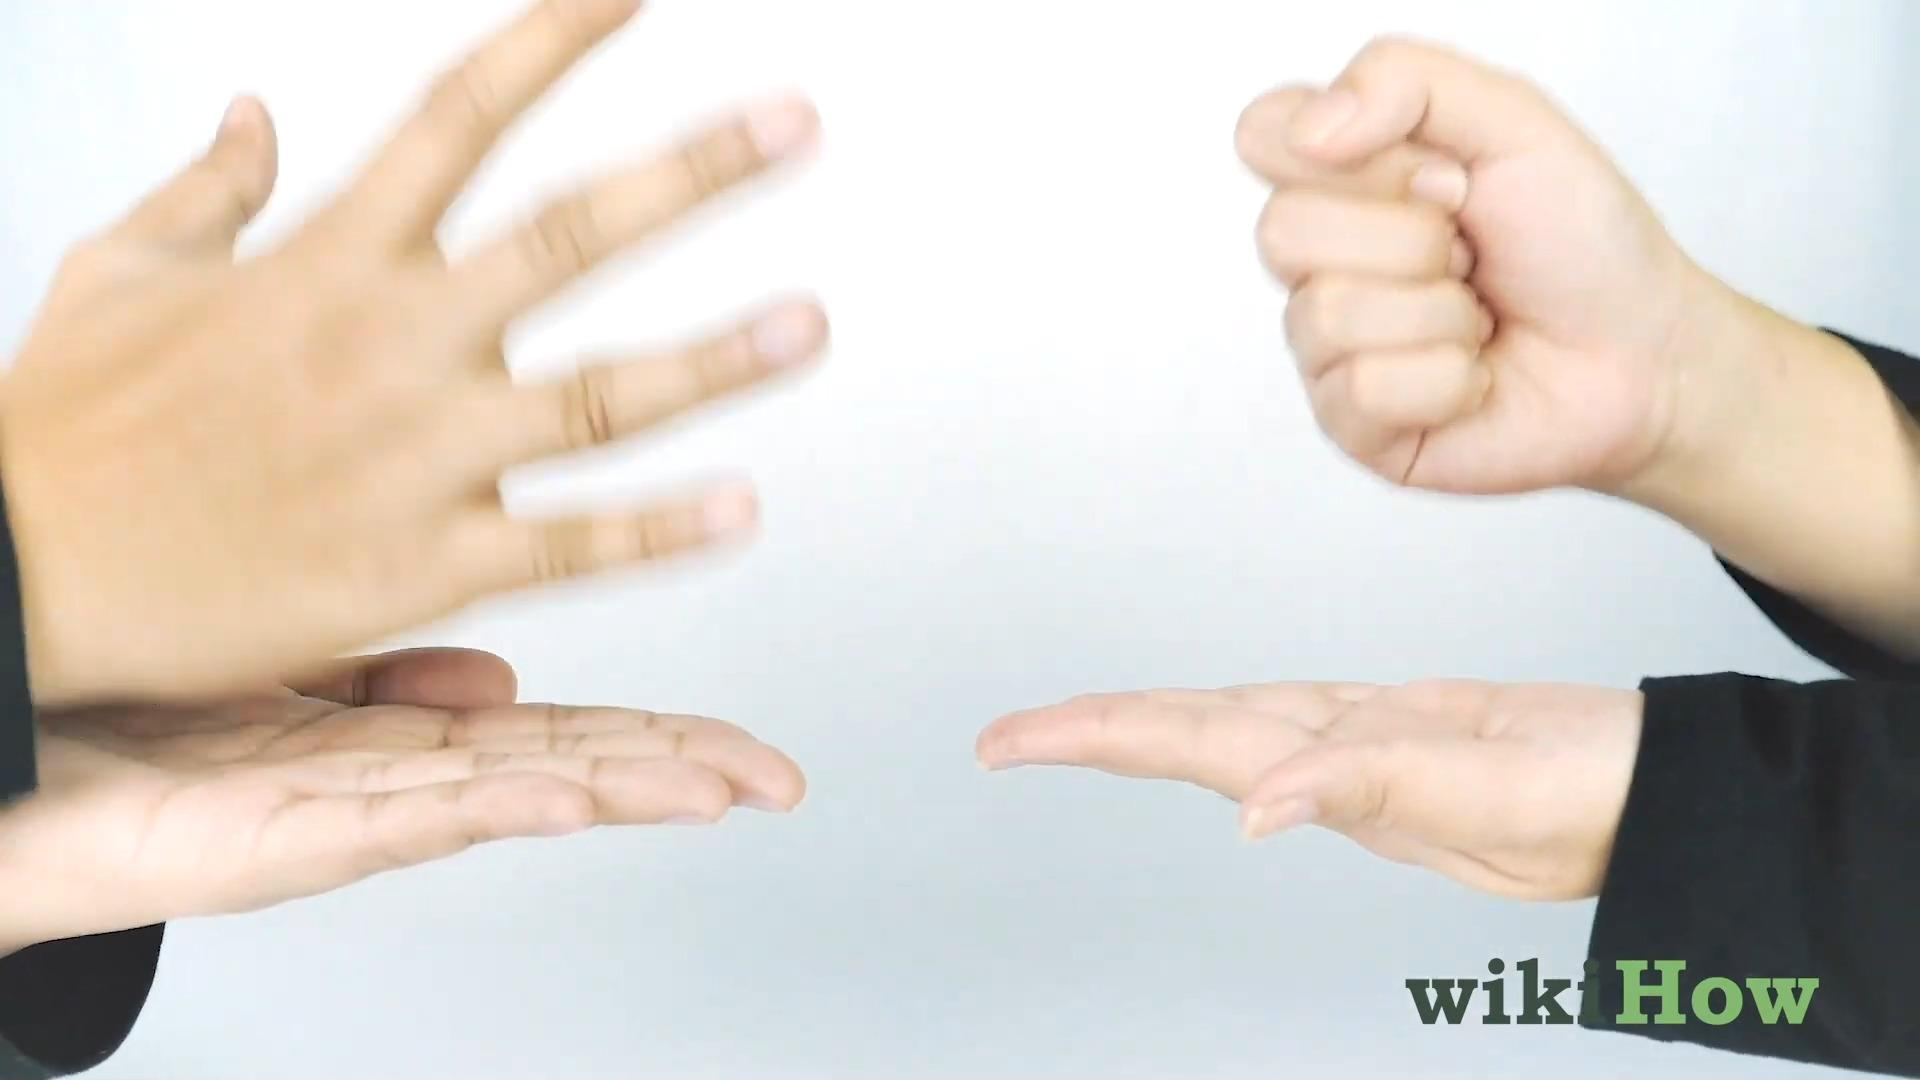Paper: (5, 0, 835, 702)
Rock: (1237, 30, 1710, 505)
